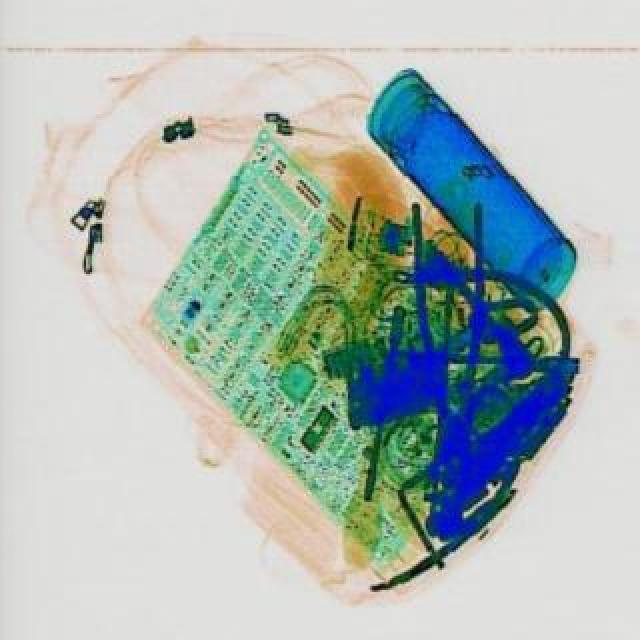wrench: (410, 198, 484, 452)
